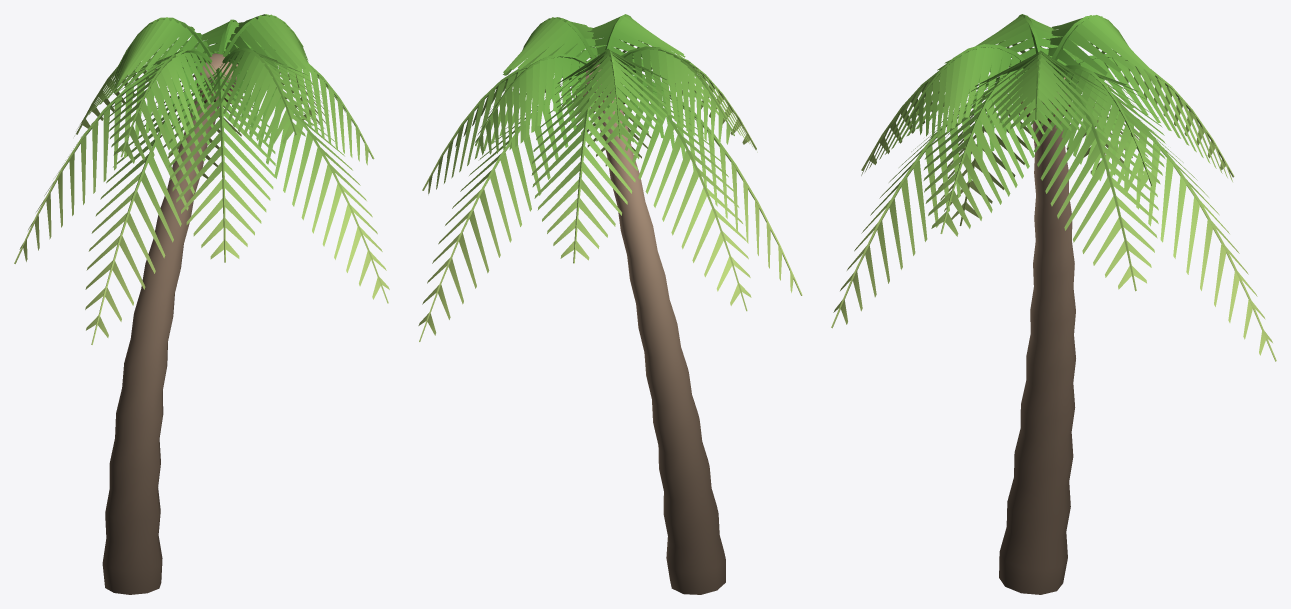
File: Palm_A.glb
3 renders of one model, left to right at view 1: azimuth 30°, elevation 25°; view 2: azimuth 150°, elevation 25°; view 3: azimuth 270°, elevation 25°, orthographic. The views are drawn at different scales.
Visible parts, largest first — view 1: Palm_A; view 2: Palm_A; view 3: Palm_A.
Part boxes in pixels (left/top/right/bottom): Palm_A: left=14, top=14, right=389, bottom=594; Palm_A: left=418, top=14, right=802, bottom=594; Palm_A: left=831, top=14, right=1276, bottom=594.
Bounding box in the file's own units: 6.24 × 10.2 × 6.83.
